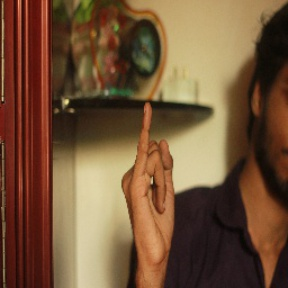I: (118, 99, 181, 246)
